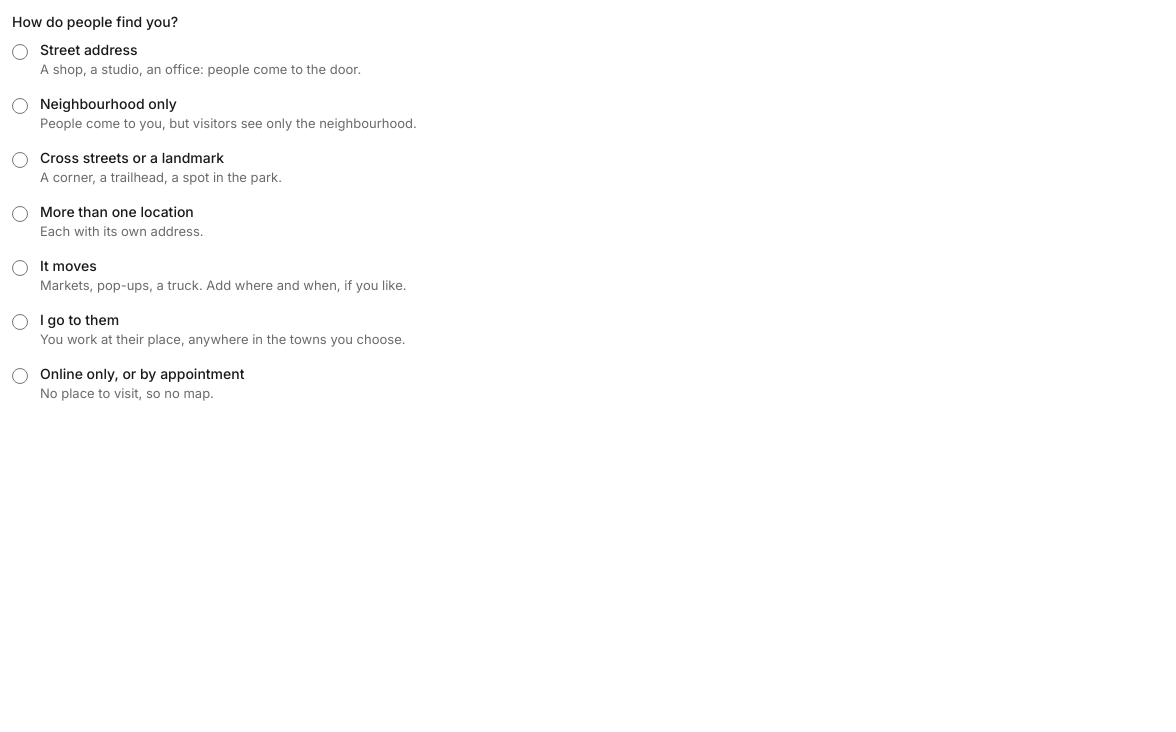
it: Street address, or the neighbourhood only › says so when nothing matches the address
Click the radio button labelled "Street address". click: coordinates (20, 52)
box: [12,44,28,60]
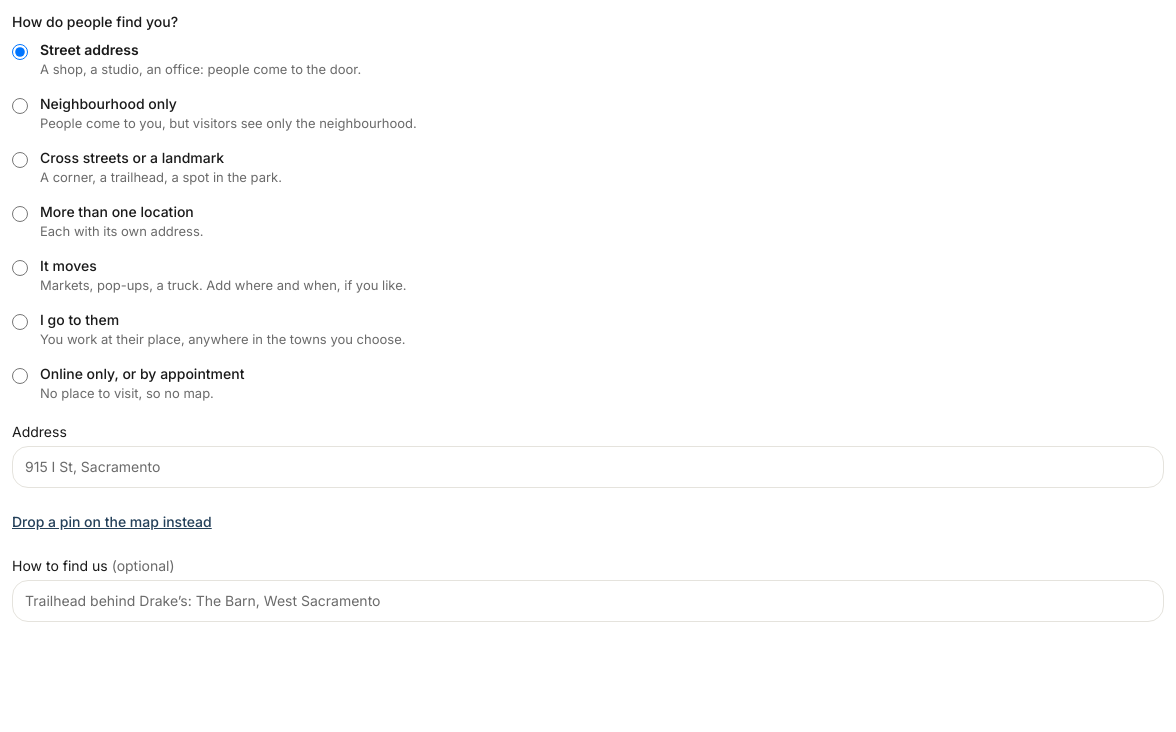
Type "zzzz" into the dropdown labelled "Address". click: coordinates (588, 467)
box: [12,446,1164,488]
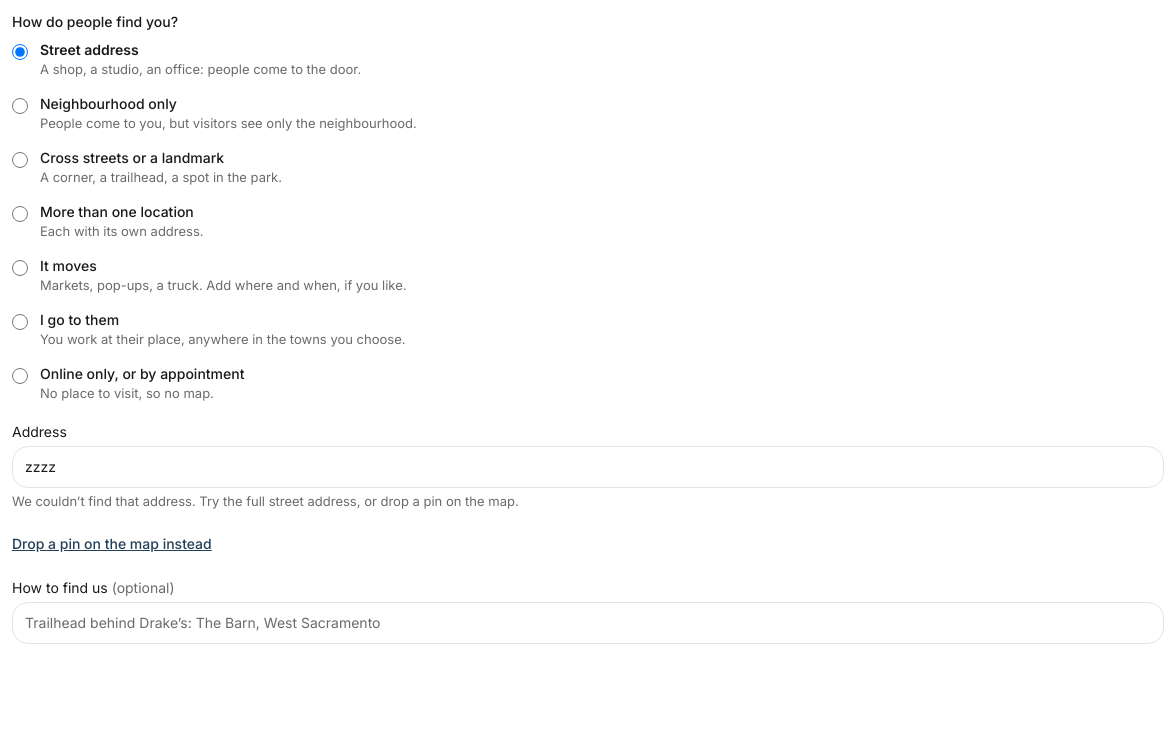
Now the text "couldn.t find that address" is shown, box [12,493,357,509]
